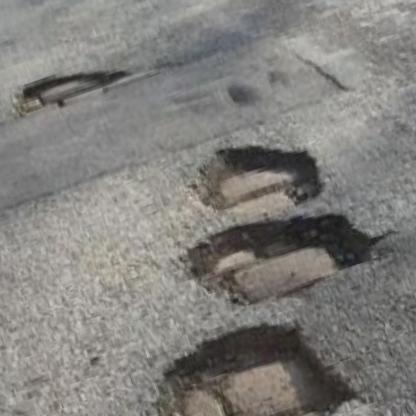pothole: (175, 179, 388, 325), (137, 294, 368, 416), (182, 114, 329, 231), (4, 43, 137, 121)
